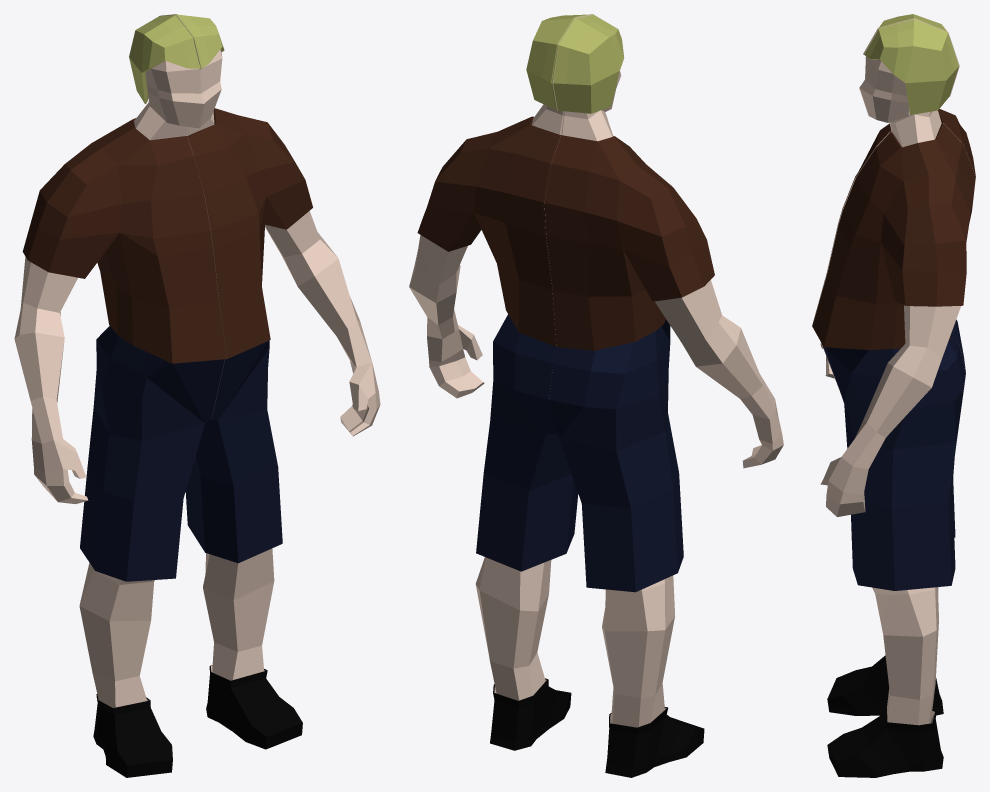
File: czlowiek.fbx
The picture shows the model from 3 angles, left to right: view 1: azimuth 30°, elevation 25°; view 2: azimuth 150°, elevation 25°; view 3: azimuth 270°, elevation 25°; orthographic projection. The views are drawn at different scales.
Visible parts, largest first — view 1: Cube; view 2: Cube; view 3: Cube.
Boxes of the visible parts, bbox=[...] form: Cube: bbox=[14, 14, 380, 777]; Cube: bbox=[409, 14, 783, 777]; Cube: bbox=[812, 14, 975, 777].
Size of the model in its own units: 71.77 by 146 by 30.31.
